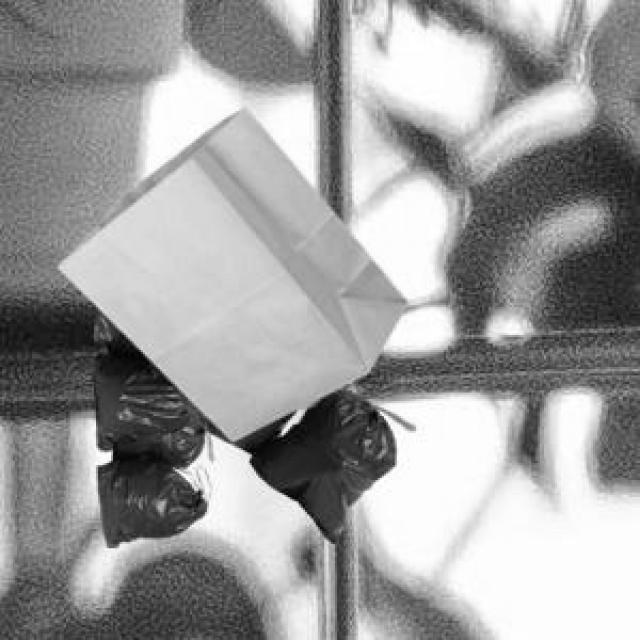miscellaneous trash: (201, 382, 411, 540), (90, 301, 205, 544)
paper: (56, 105, 403, 437)
